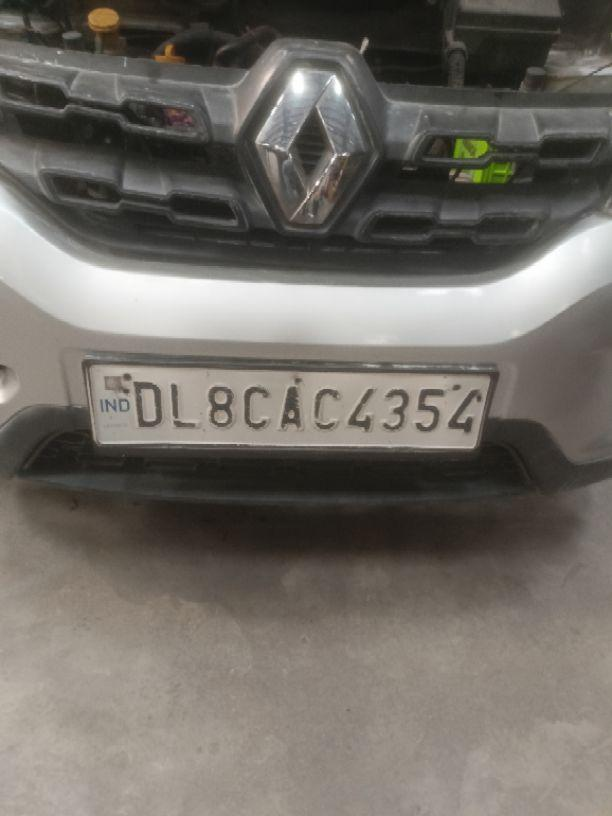license_plate: (81, 356, 499, 453)
